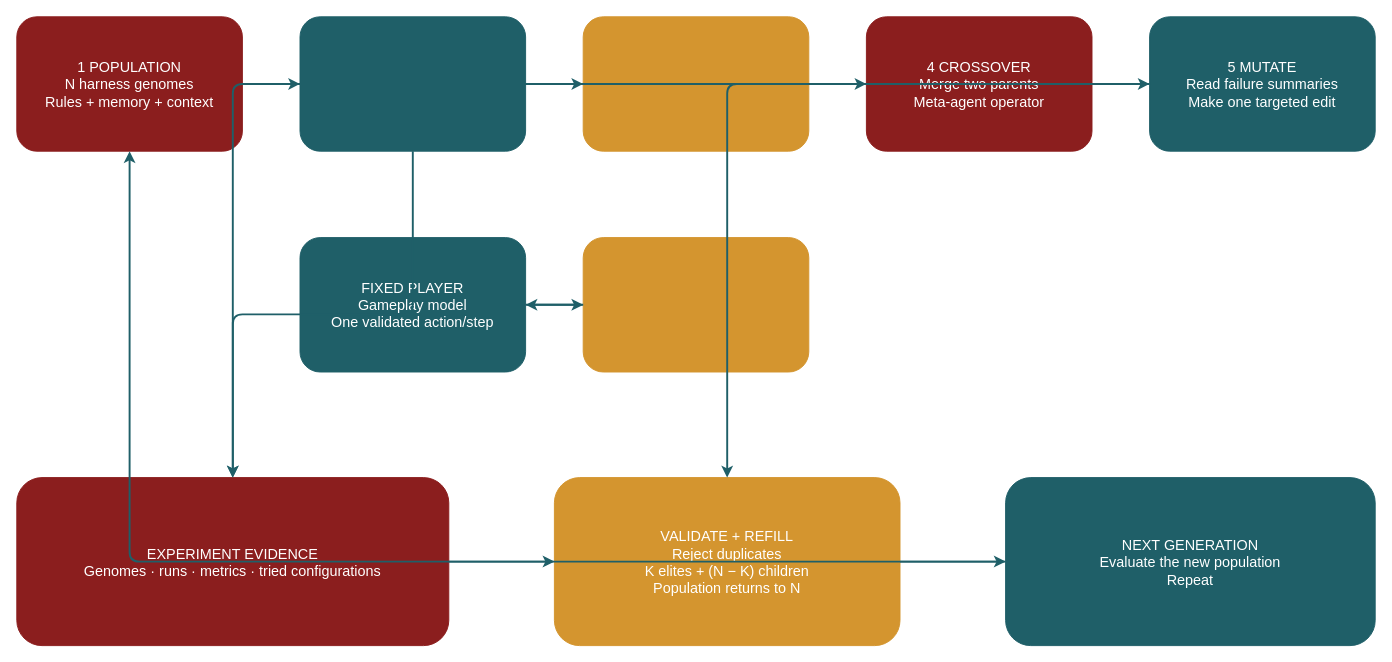
Image size: 1392x662. Some labels were removed from this diagram. Each missing label, with the centre of its shape:
2 EVALUATE Shared Crafter world Score + trace + replay: (412,83)
3 SELECT Keep top K Archive N − K: (695,83)
CRAFTER 22 achievements 17 discrete actions: (695,304)
